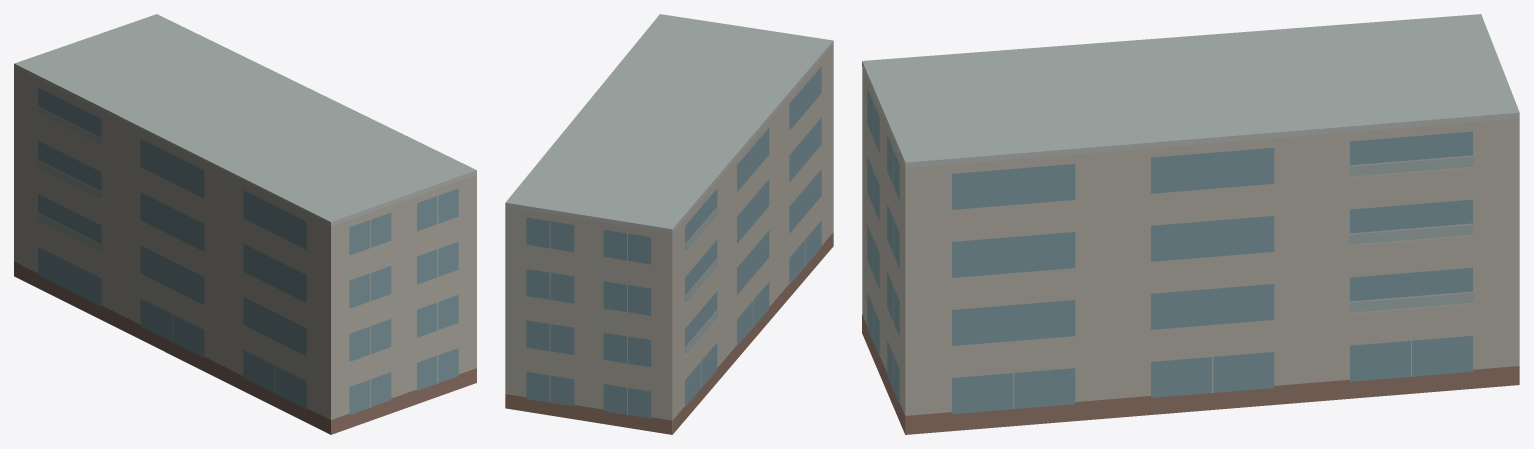
Rendered from survey-upis-32493753.glb.
The picture shows the model from 3 angles, left to right: view 1: azimuth 30°, elevation 25°; view 2: azimuth 150°, elevation 25°; view 3: azimuth 270°, elevation 25°; orthographic projection. The views are drawn at different scales.
Parts seen in each view (by area): view 1: survey-upis-32493753.tmp; view 2: survey-upis-32493753.tmp; view 3: survey-upis-32493753.tmp.
Boxes of the visible parts, bbox=[...] form: survey-upis-32493753.tmp: bbox=[14, 14, 476, 434]; survey-upis-32493753.tmp: bbox=[505, 14, 833, 434]; survey-upis-32493753.tmp: bbox=[862, 14, 1519, 434].
Size of the model in its own units: 13.58 by 11.6 by 25.4.
